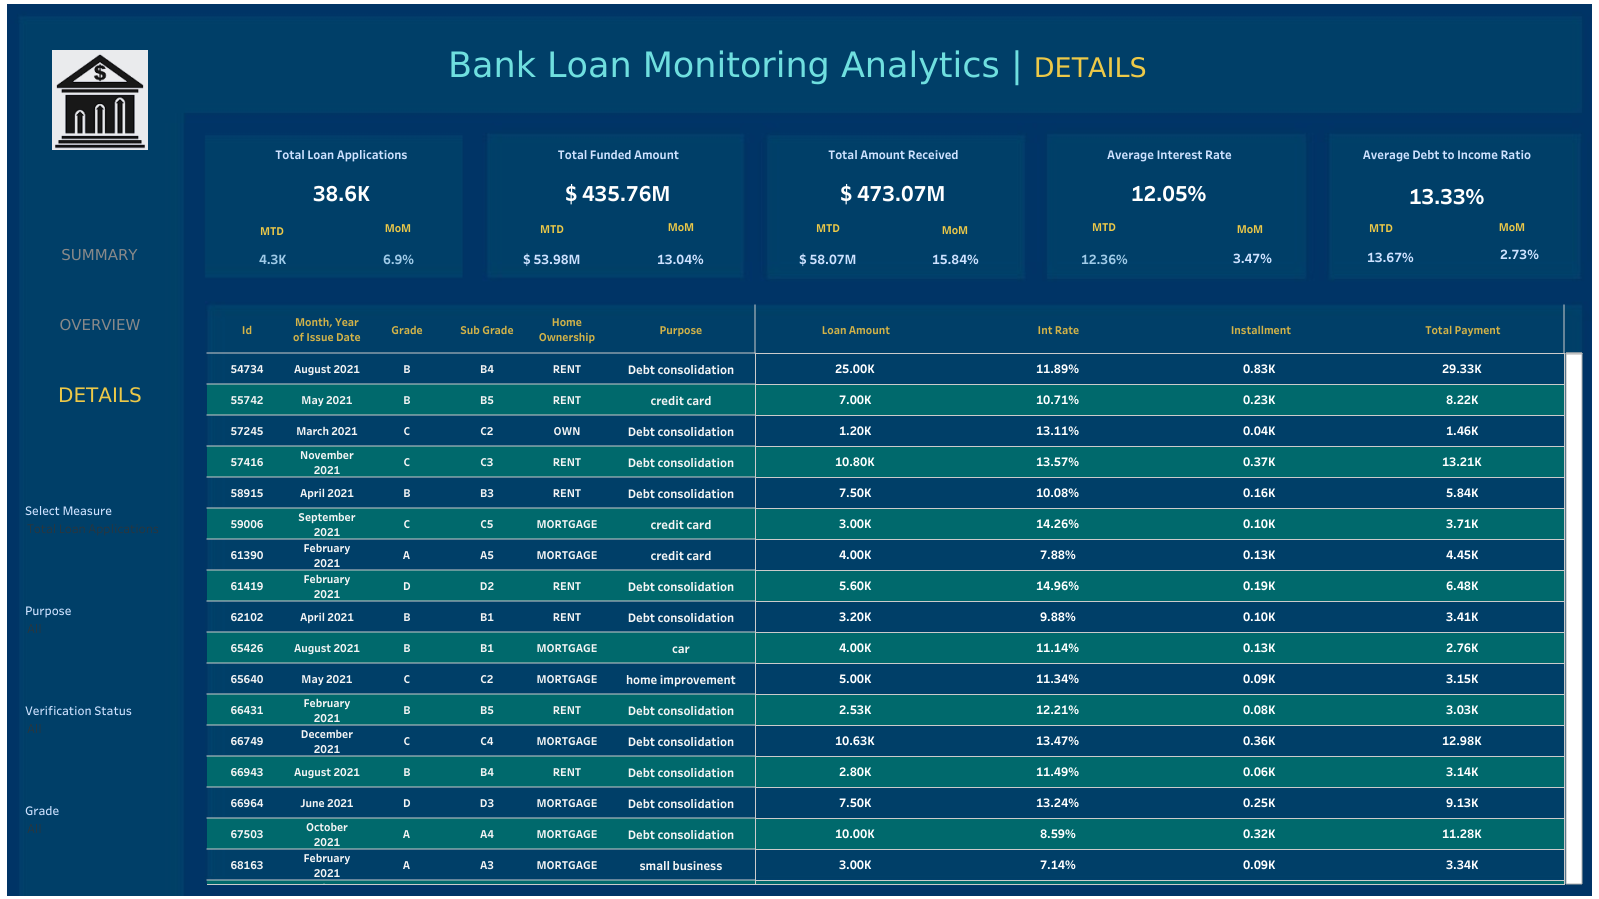

What the dashboard file says about the page in this screenshot:
{"tool":"tableau","page":{"name":"DETAILS","canvas":[1600,900],"ordinal":0},"visuals":[{"type":"image","param":"Image/teal bg Detail view.jpg","box":[0,0,1600,900]},{"type":"text","box":[19,15,1557,100]},{"type":"image","param":"Image/images.png","box":[40,50,120,100]},{"type":"worksheet","title":"Total Loan Applications","mark":"Automatic","box":[216,139,251,74]},{"type":"worksheet","title":"Total Funded Amount","mark":"Automatic","box":[493,139,251,74]},{"type":"worksheet","title":"Total Amount Received ","mark":"Automatic","box":[768,139,251,74]},{"type":"worksheet","title":"Average Interest Rate","mark":"Automatic","box":[1044,139,251,74]},{"type":"worksheet","title":"Average Debt to Income Ratio","mark":"Automatic","box":[1321,139,252,81]},{"type":"text","box":[636,214,90,25]},{"type":"text","box":[1059,214,90,25]},{"type":"text","box":[1467,214,90,25]},{"type":"text","box":[353,215,90,25]},{"type":"text","box":[783,215,90,25]},{"type":"text","box":[1336,215,90,25]},{"type":"text","box":[507,216,90,25]},{"type":"text","box":[1205,216,90,25]},{"type":"text","box":[910,217,90,25]},{"type":"text","box":[227,218,90,25]},{"type":"dashboard-object","box":[20,230,160,50]},{"type":"worksheet","title":"MoM Average Debt to Income Ratio","mark":"Automatic","box":[1460,231,119,46]},{"type":"worksheet","title":"MTD Average Debt to Income Ratio","mark":"Automatic","box":[1331,234,119,46]},{"type":"worksheet","title":"MoM Average Interest Rate","mark":"Automatic","box":[1193,235,119,46]},{"type":"worksheet","title":" MTD Total Loan Applications ","mark":"Automatic","box":[214,236,119,46]},{"type":"worksheet","title":"MoM Total Loan Applications","mark":"Automatic","box":[340,236,119,46]},{"type":"worksheet","title":"MTD Total Funded Amount","mark":"Automatic","box":[493,236,119,46]},{"type":"worksheet","title":"MoM Total Funded Amount","mark":"Automatic","box":[621,236,119,46]},{"type":"worksheet","title":"MTD Total Amount Received","mark":"Automatic","box":[769,236,119,46]},{"type":"worksheet","title":"MoM Total Amount Received","mark":"Automatic","box":[896,236,119,46]},{"type":"worksheet","title":"MTD Average Interest Rate","mark":"Automatic","box":[1045,236,119,46]},{"type":"dashboard-object","box":[20,300,160,50]},{"type":"worksheet","title":"Details Tab","mark":"Automatic","rows":["id","issue_date","grade","sub_grade","home_ownership","purpose"],"box":[207,305,1376,580]},{"type":"dashboard-object","box":[20,370,160,50]},{"type":"parameter","param":"[Parameters].[Parameter 1]","box":[25,500,150,50]},{"type":"filter","title":" MTD Total Loan Applications ","param":"[federated.1uwvali1n985jl11m84su1rpirvq].[none:purpose:nk]","box":[25,600,150,50]},{"type":"filter","title":" MTD Total Loan Applications ","param":"[federated.1uwvali1n985jl11m84su1rpirvq].[none:verification_status:nk]","box":[25,700,150,50]},{"type":"filter","title":" MTD Total Loan Applications ","param":"[federated.1uwvali1n985jl11m84su1rpirvq].[none:grade:nk]","box":[25,800,150,50]}]}

Visuals, with their boxes in screenshot pixels (x1, y1, x2, y2), scaled from the page's 1600x900 canvas onto the 1599x899 screenshot:
image: (left=0, top=0, right=1598, bottom=898)
text: (left=19, top=15, right=1575, bottom=115)
image: (left=40, top=50, right=160, bottom=150)
"Total Loan Applications" worksheet: (left=216, top=139, right=467, bottom=213)
"Total Funded Amount" worksheet: (left=493, top=139, right=744, bottom=213)
"Total Amount Received " worksheet: (left=768, top=139, right=1018, bottom=213)
"Average Interest Rate" worksheet: (left=1043, top=139, right=1294, bottom=213)
"Average Debt to Income Ratio" worksheet: (left=1320, top=139, right=1572, bottom=220)
text: (left=636, top=214, right=726, bottom=239)
text: (left=1058, top=214, right=1148, bottom=239)
text: (left=1466, top=214, right=1556, bottom=239)
text: (left=353, top=215, right=443, bottom=240)
text: (left=783, top=215, right=872, bottom=240)
text: (left=1335, top=215, right=1425, bottom=240)
text: (left=507, top=216, right=597, bottom=241)
text: (left=1204, top=216, right=1294, bottom=241)
text: (left=909, top=217, right=999, bottom=242)
text: (left=227, top=218, right=317, bottom=243)
dashboard-object: (left=20, top=230, right=180, bottom=280)
"MoM Average Debt to Income Ratio" worksheet: (left=1459, top=231, right=1578, bottom=277)
"MTD Average Debt to Income Ratio" worksheet: (left=1330, top=234, right=1449, bottom=280)
"MoM Average Interest Rate" worksheet: (left=1192, top=235, right=1311, bottom=281)
" MTD Total Loan Applications " worksheet: (left=214, top=236, right=333, bottom=282)
"MoM Total Loan Applications" worksheet: (left=340, top=236, right=459, bottom=282)
"MTD Total Funded Amount" worksheet: (left=493, top=236, right=612, bottom=282)
"MoM Total Funded Amount" worksheet: (left=621, top=236, right=740, bottom=282)
"MTD Total Amount Received" worksheet: (left=769, top=236, right=887, bottom=282)
"MoM Total Amount Received" worksheet: (left=895, top=236, right=1014, bottom=282)
"MTD Average Interest Rate" worksheet: (left=1044, top=236, right=1163, bottom=282)
dashboard-object: (left=20, top=300, right=180, bottom=350)
"Details Tab" worksheet: (left=207, top=305, right=1582, bottom=884)
dashboard-object: (left=20, top=370, right=180, bottom=420)
parameter: (left=25, top=499, right=175, bottom=549)
" MTD Total Loan Applications " filter: (left=25, top=599, right=175, bottom=649)
" MTD Total Loan Applications " filter: (left=25, top=699, right=175, bottom=749)
" MTD Total Loan Applications " filter: (left=25, top=799, right=175, bottom=849)
